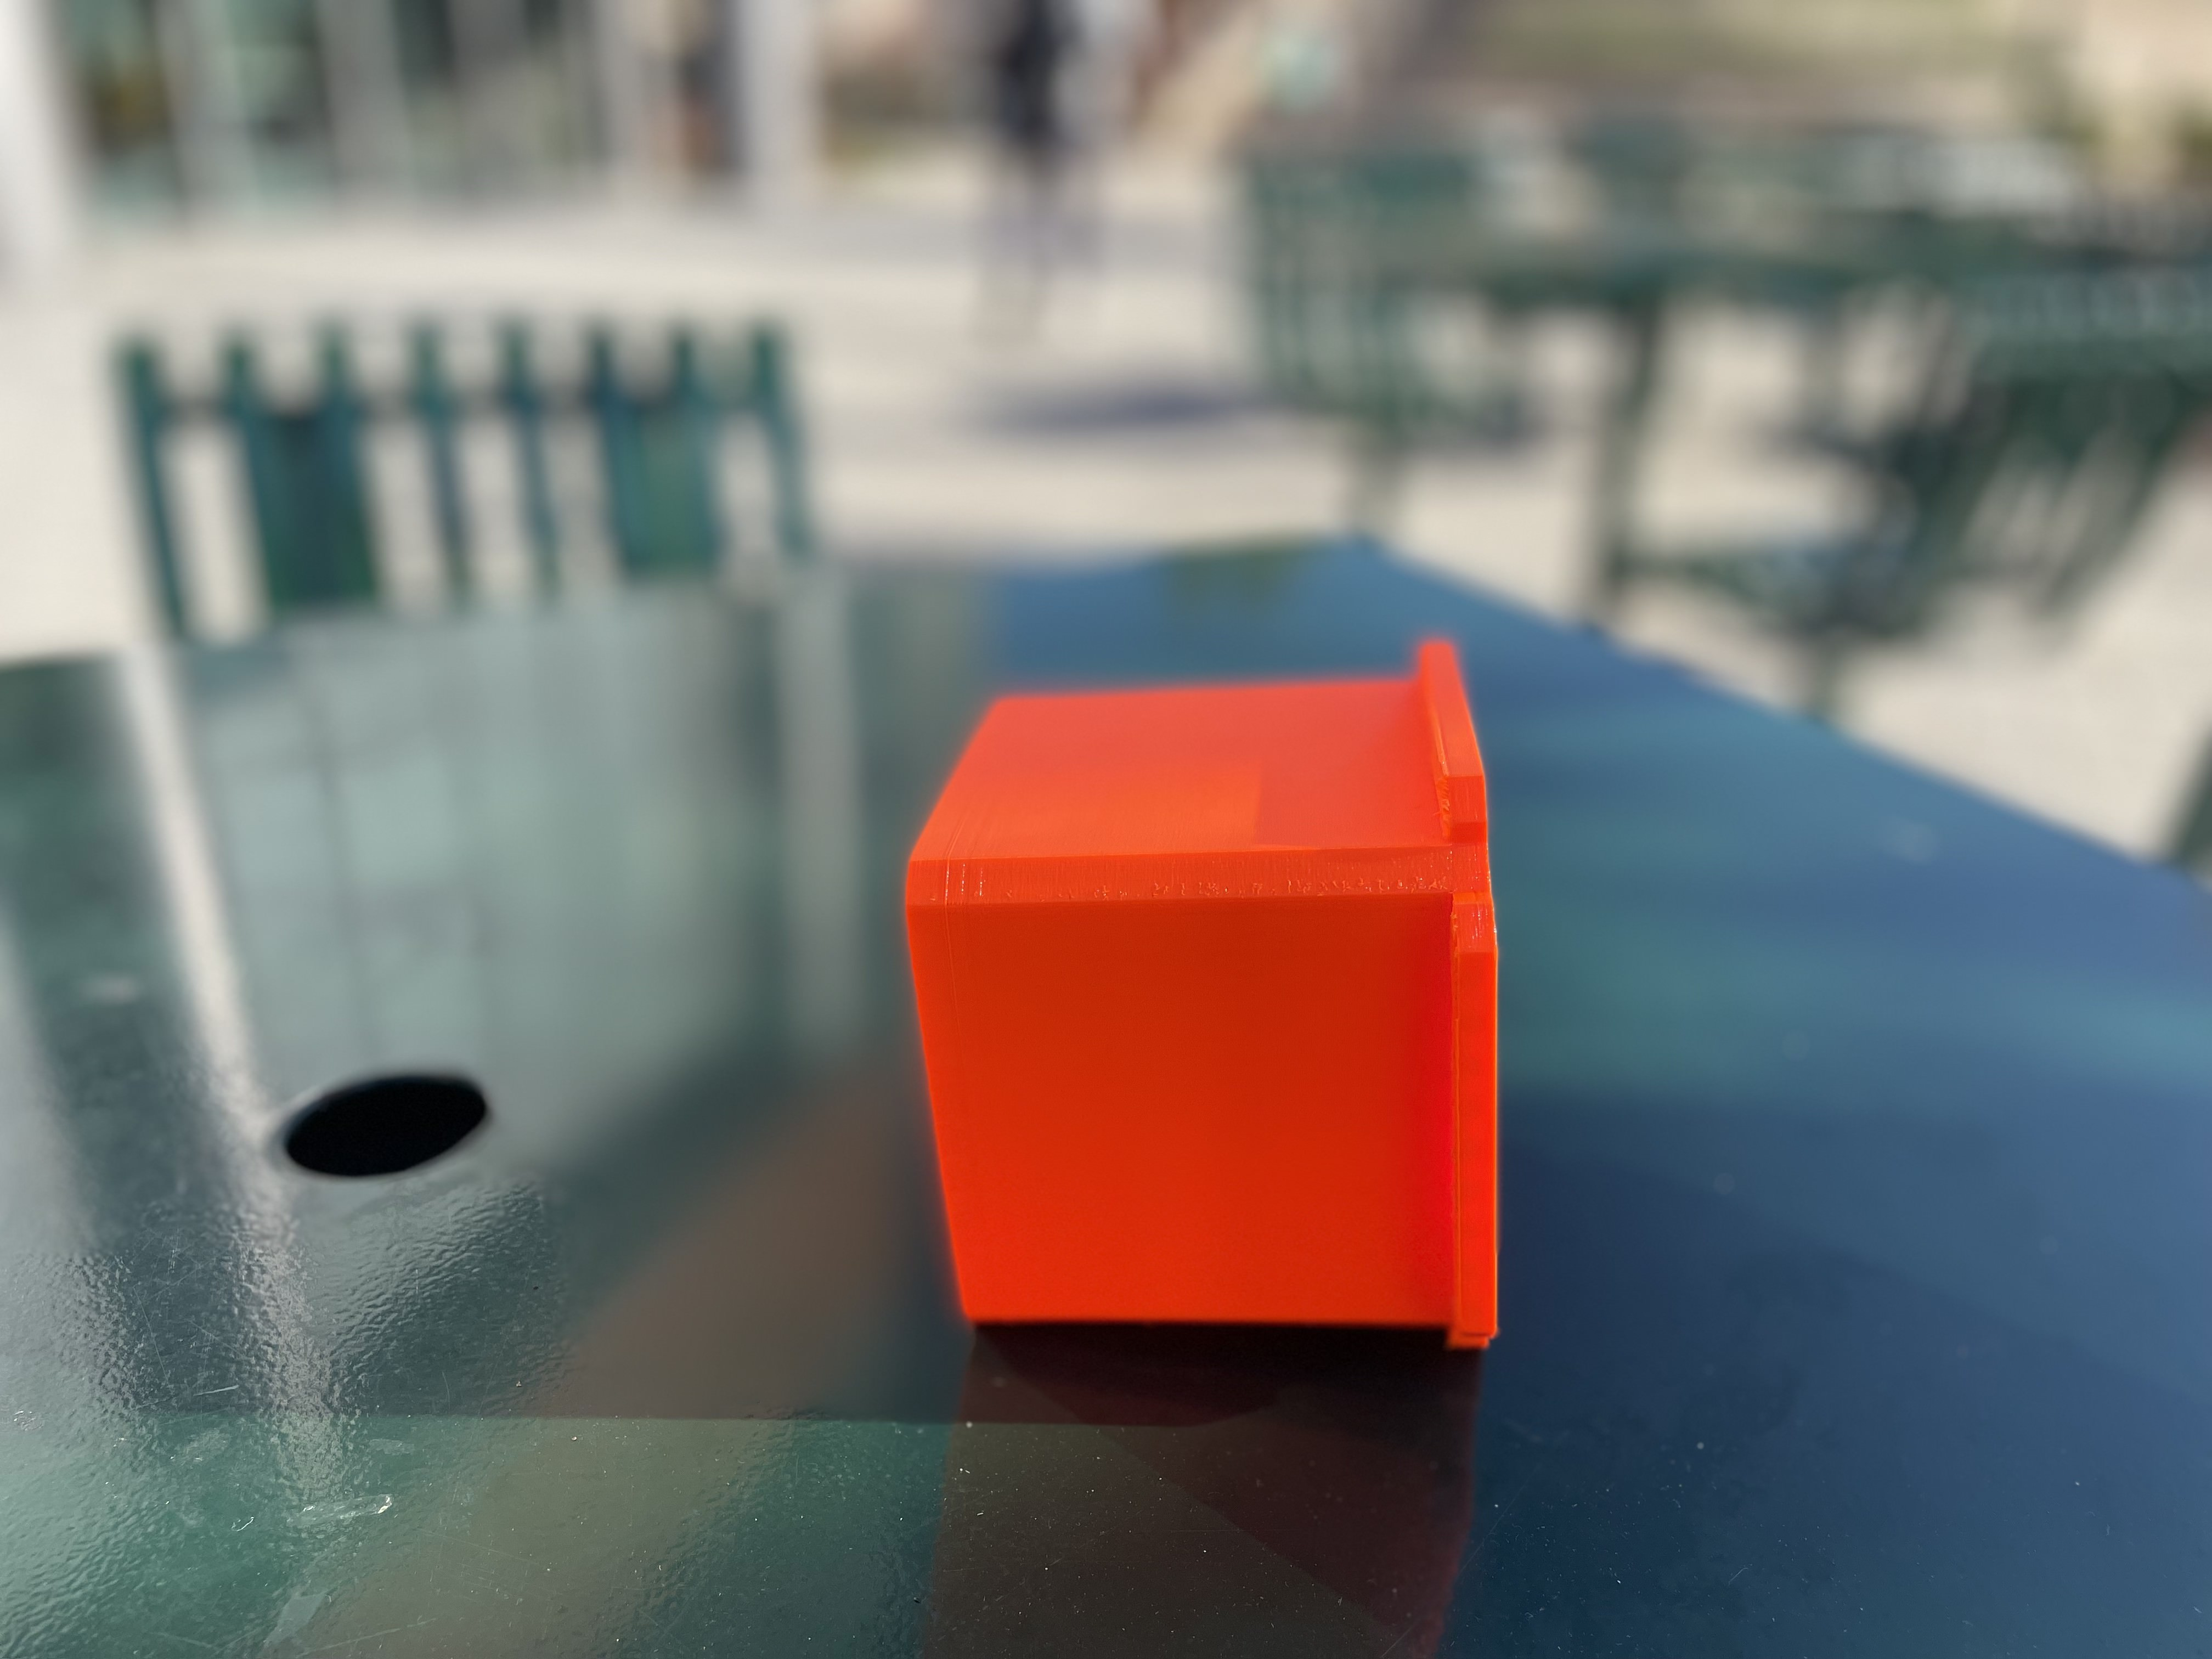payload1: (897, 610, 1536, 1410)
